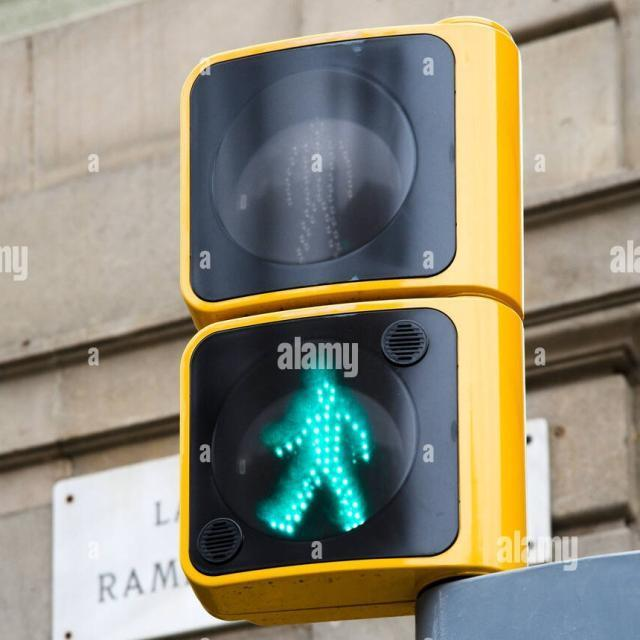geen-crossing: (271, 368, 372, 533)
